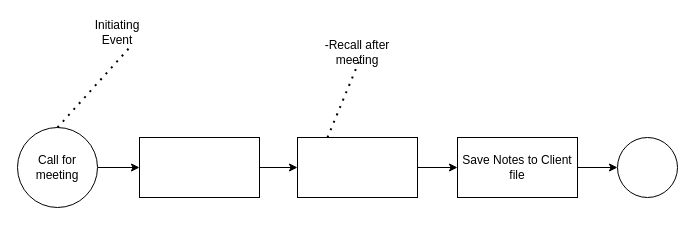
The diagram is 695 pixels wide and 225 high, and some of its shapes have lost their labels. The centre of each missing label's shape, as x and y in pixels:
"Meet with Client" goes at [199,167].
"Write Notes" goes at [357,167].
